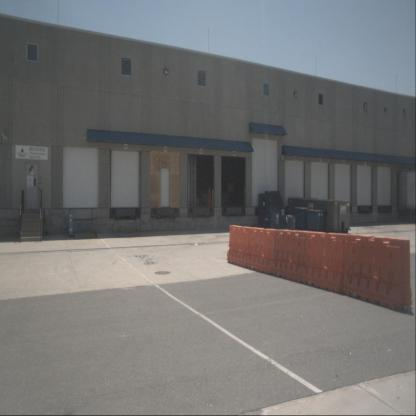movable_object-barrier: (342, 233, 413, 307), (301, 231, 347, 293), (271, 230, 304, 283), (246, 226, 278, 276), (226, 225, 253, 268)
